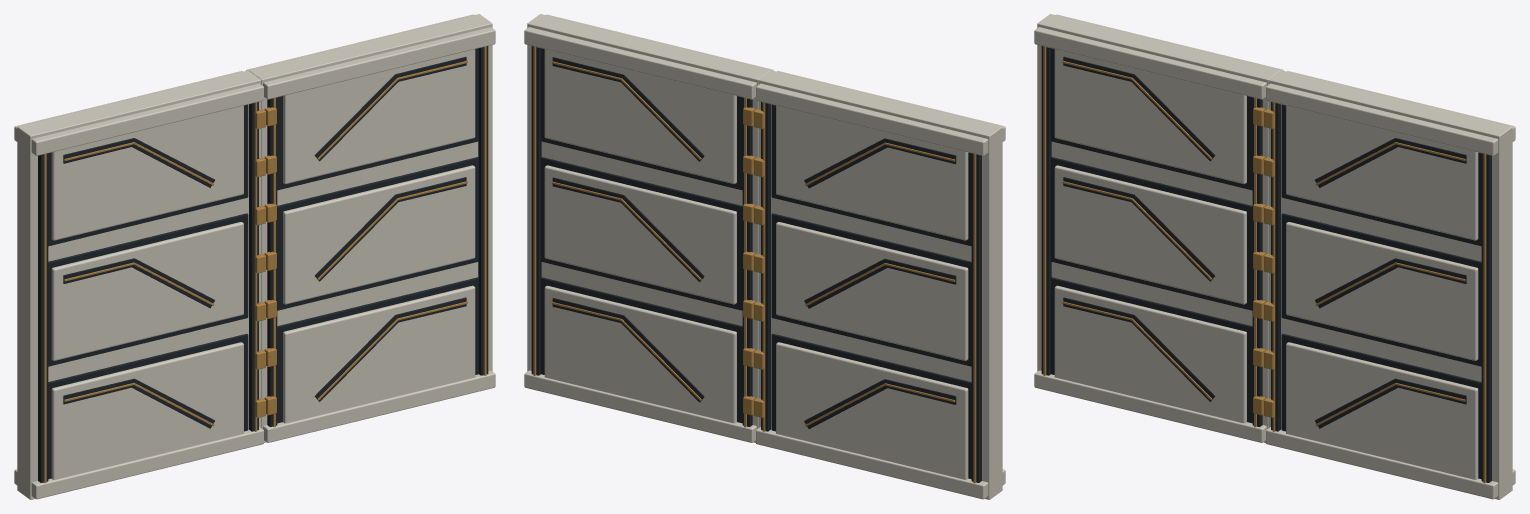
File: SM_Aurelion_KIT_JournalDoor_6x4p5.fbx
The picture shows the model from 3 angles, left to right: view 1: azimuth 30°, elevation 25°; view 2: azimuth 150°, elevation 25°; view 3: azimuth 330°, elevation 25°; orthographic projection.
Parts seen in each view (by area): view 1: SM_Aurelion_KIT_JournalDoor_6x4p5; view 2: SM_Aurelion_KIT_JournalDoor_6x4p5; view 3: SM_Aurelion_KIT_JournalDoor_6x4p5.
Part boxes in pixels (x1,y1,x2,y2): SM_Aurelion_KIT_JournalDoor_6x4p5: [14, 14, 495, 499]; SM_Aurelion_KIT_JournalDoor_6x4p5: [524, 14, 1005, 499]; SM_Aurelion_KIT_JournalDoor_6x4p5: [1034, 14, 1515, 499].
Bounding box in the file's own units: 604 × 55 × 454.
